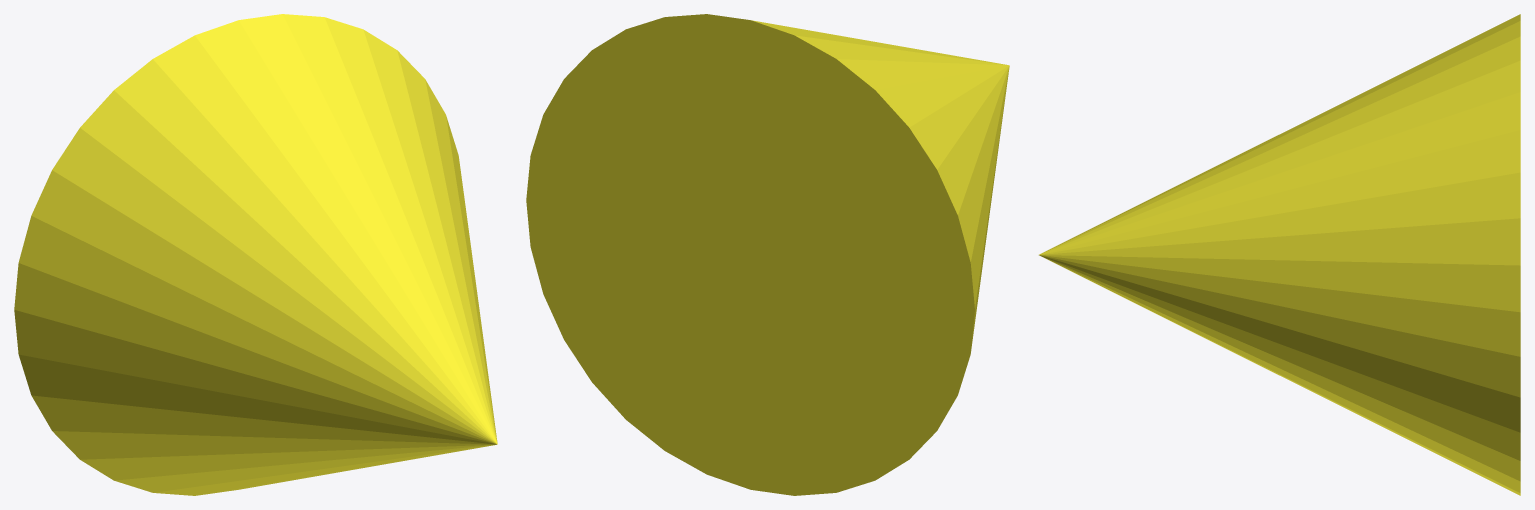
File: PlayerBullet.obj
3 renders of one model, left to right at view 1: azimuth 30°, elevation 25°; view 2: azimuth 150°, elevation 25°; view 3: azimuth 270°, elevation 25°, orthographic. The views are drawn at different scales.
Visible parts, largest first — view 1: 円錐; view 2: 円錐; view 3: 円錐.
Part boxes in pixels (bbox=[...]): 円錐: bbox=[14, 14, 497, 495]; 円錐: bbox=[526, 14, 1009, 495]; 円錐: bbox=[1039, 14, 1520, 495].
Size of the model in its own units: 2 by 2 by 2.
1 material, 1 textured.
